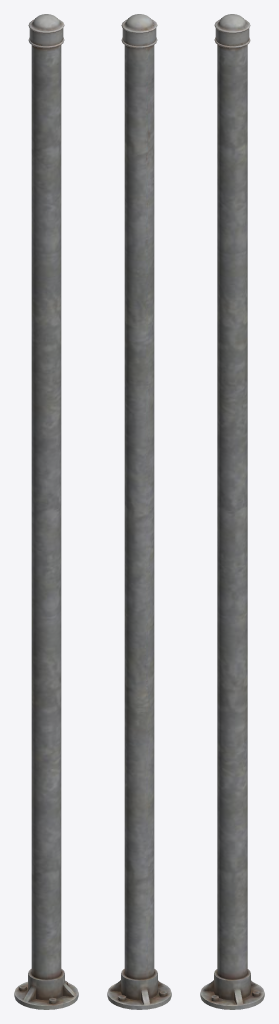
File: tel_cit_direk.gltf
3 renders of one model, left to right at view 1: azimuth 30°, elevation 25°; view 2: azimuth 210°, elevation 25°; view 3: azimuth 330°, elevation 25°, orthographic.
Visible parts, largest first — view 1: tel_cit_direk; view 2: tel_cit_direk; view 3: tel_cit_direk.
Part boxes in pixels (x1,y1,x2,y2): tel_cit_direk: (14, 14, 78, 1009); tel_cit_direk: (107, 14, 171, 1009); tel_cit_direk: (200, 14, 264, 1009).
Size of what is drawn, in the model's own units: 0.1494 by 2.52 by 0.1494.
1 material, 1 textured.
